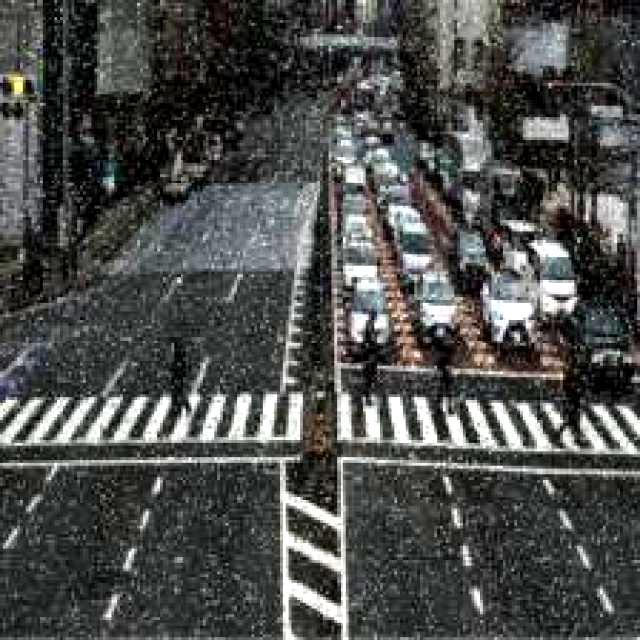crosswalk: (0, 393, 639, 468)
